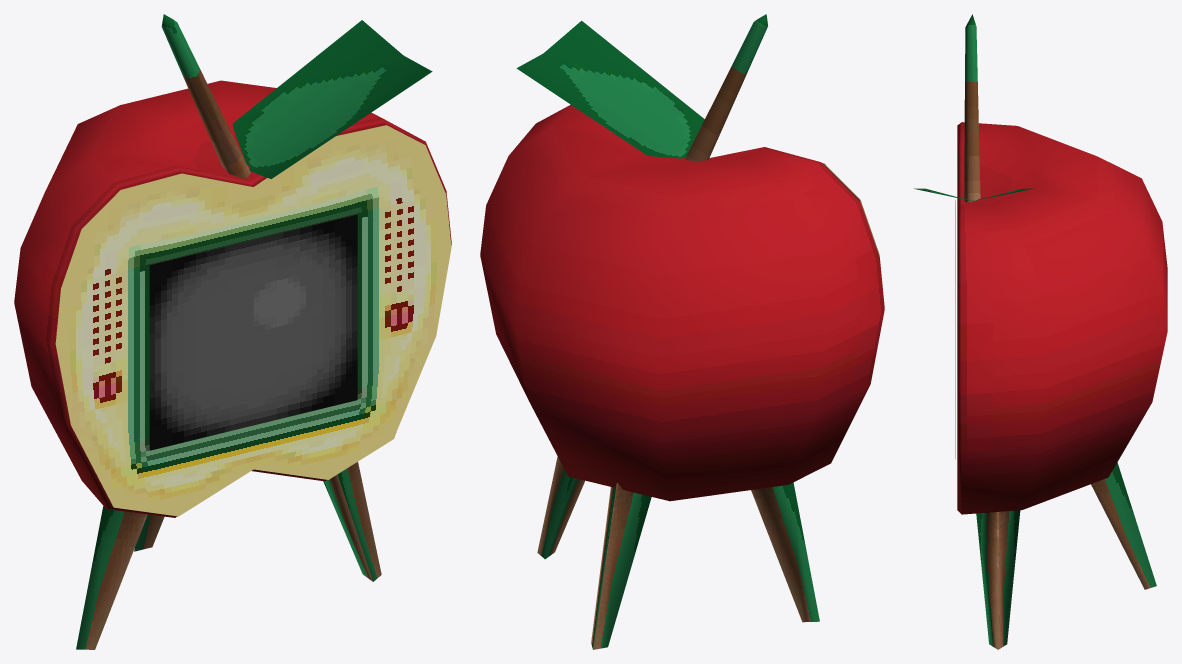
Rendered from rmk_apl_tv.dae.
3 renders of one model, left to right at view 1: azimuth 30°, elevation 25°; view 2: azimuth 150°, elevation 25°; view 3: azimuth 270°, elevation 25°, orthographic. The views are drawn at different scales.
Parts seen in each view (by area): view 1: rmk_apl_tv; view 2: rmk_apl_tv; view 3: rmk_apl_tv.
Boxes of the visible parts, x1=… form: rmk_apl_tv: x1=14, y1=14, x2=451, y2=649; rmk_apl_tv: x1=480, y1=14, x2=884, y2=649; rmk_apl_tv: x1=914, y1=14, x2=1167, y2=649.
Bounding box in the file's own units: 26.4 × 39.3 × 16.8.
3 materials, 3 textured.
